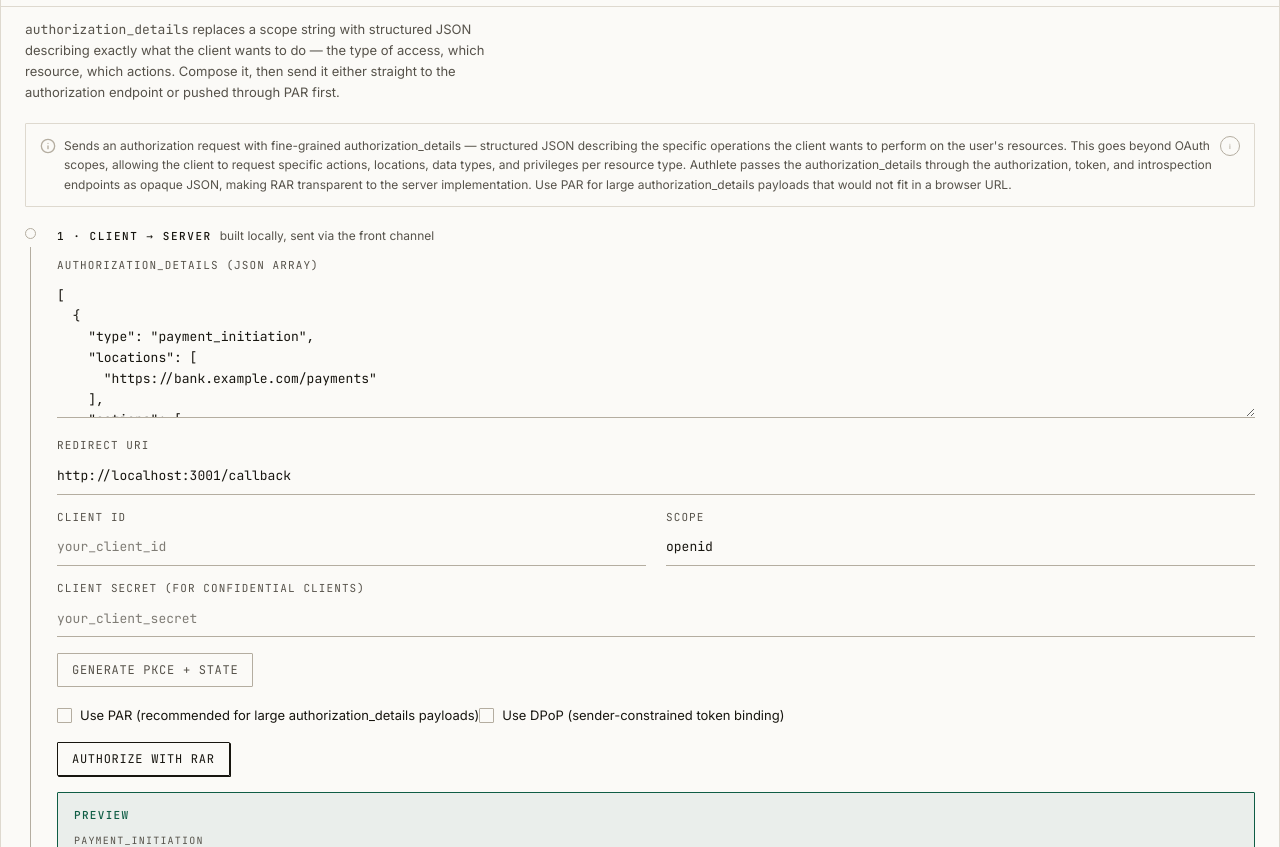
Test case: RarSection — PAR, and the field the redirect must carry › reports a 201 with no request_uri rather than doing nothing at all
This screenshot has width=1280, height=847.
Click the checkbox labelled "Use PAR" at (64, 716), box [57,708,72,723]
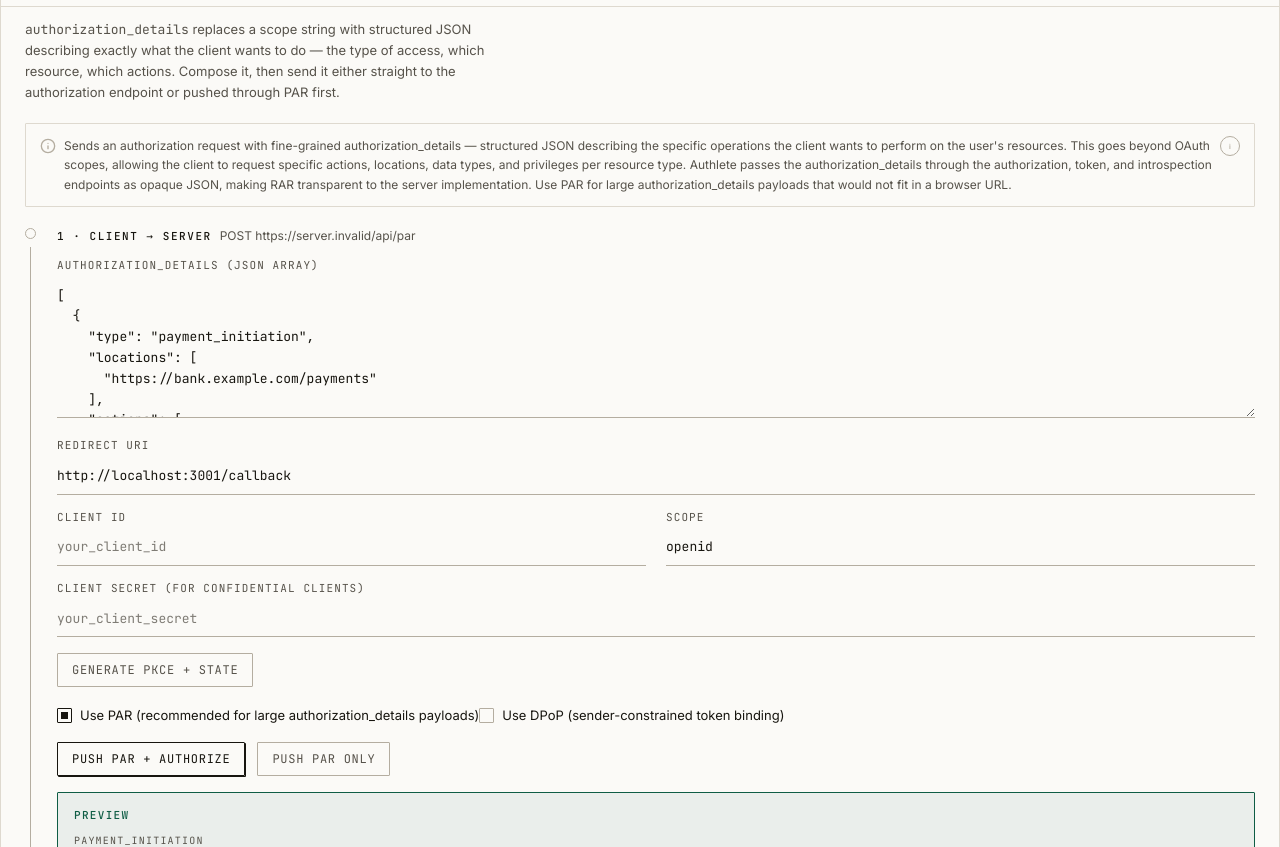
Type "1523514379" into the field labelled "Client ID" at (352, 548), box [57,530,646,566]
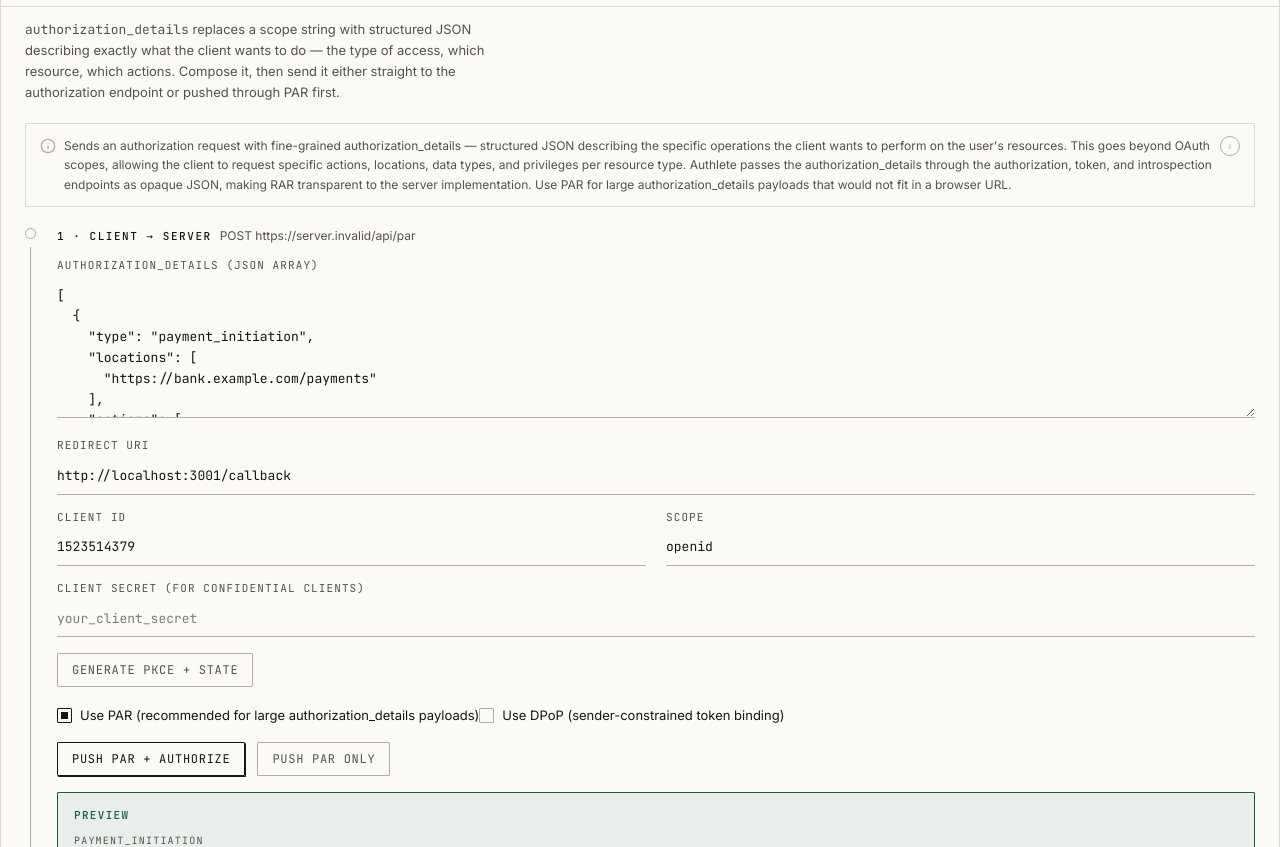
Click the button "Push PAR + Authorize" at (151, 759), box [57,742,245,776]
(page scrolled)
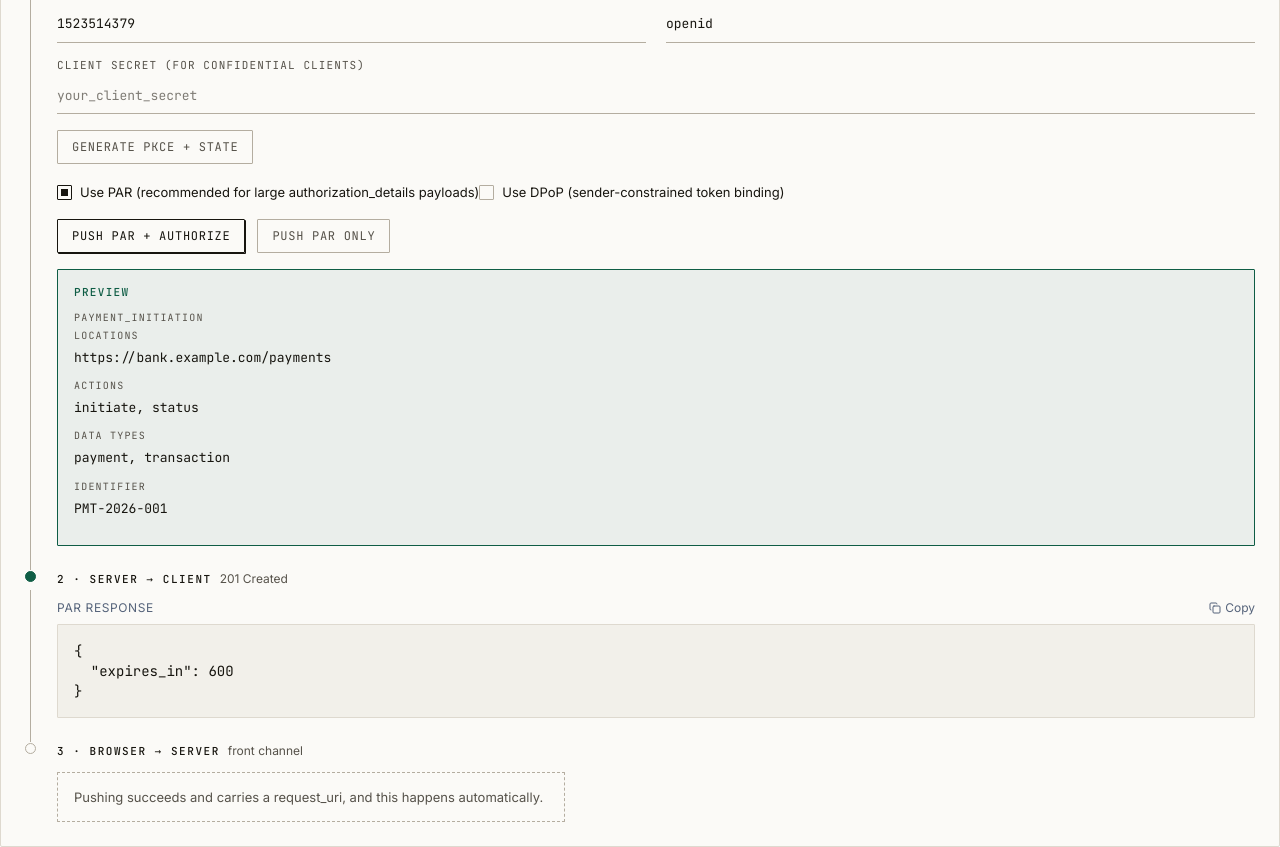
Now the text "{ \"expires_in\": 600 }" is shown, box [57,624,1255,718]
